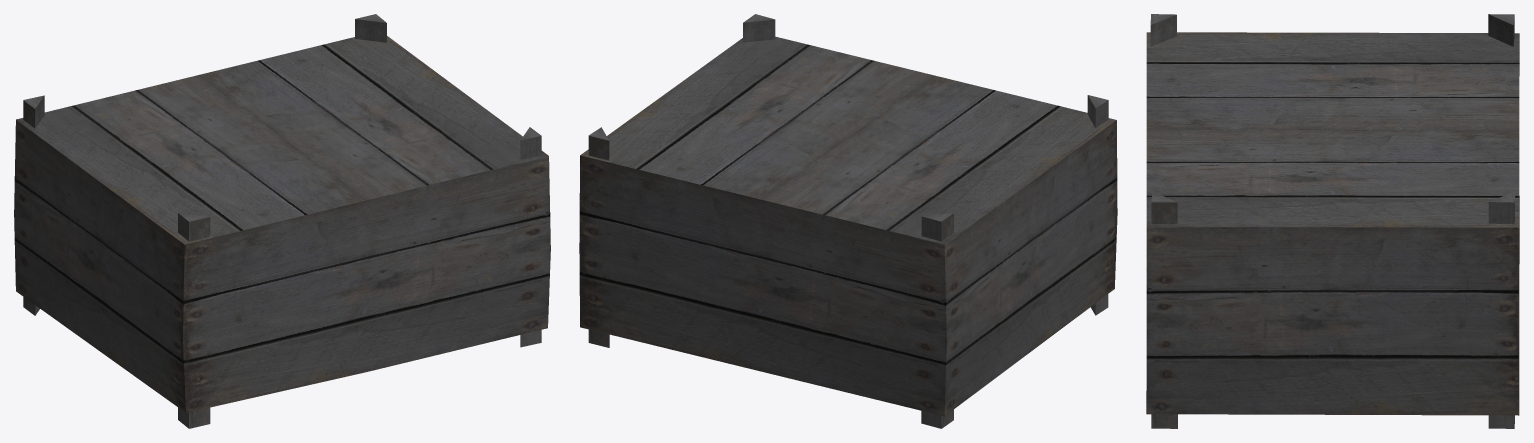
File: Crate02_LOD02.fbx
3 views of the same model, side by side, from view 1: azimuth 30°, elevation 25°; view 2: azimuth 150°, elevation 25°; view 3: azimuth 270°, elevation 25° (orthographic). The views are drawn at different scales.
Parts seen in each view (by area): view 1: Mesh Object; view 2: Mesh Object; view 3: Mesh Object.
Boxes of the visible parts, x1,y1,x2,y2 form: Mesh Object: (14,14,550,428); Mesh Object: (579,14,1117,428); Mesh Object: (1146,14,1519,428).
Bounding box in the file's own units: 0.6318 × 0.3394 × 0.5067.
